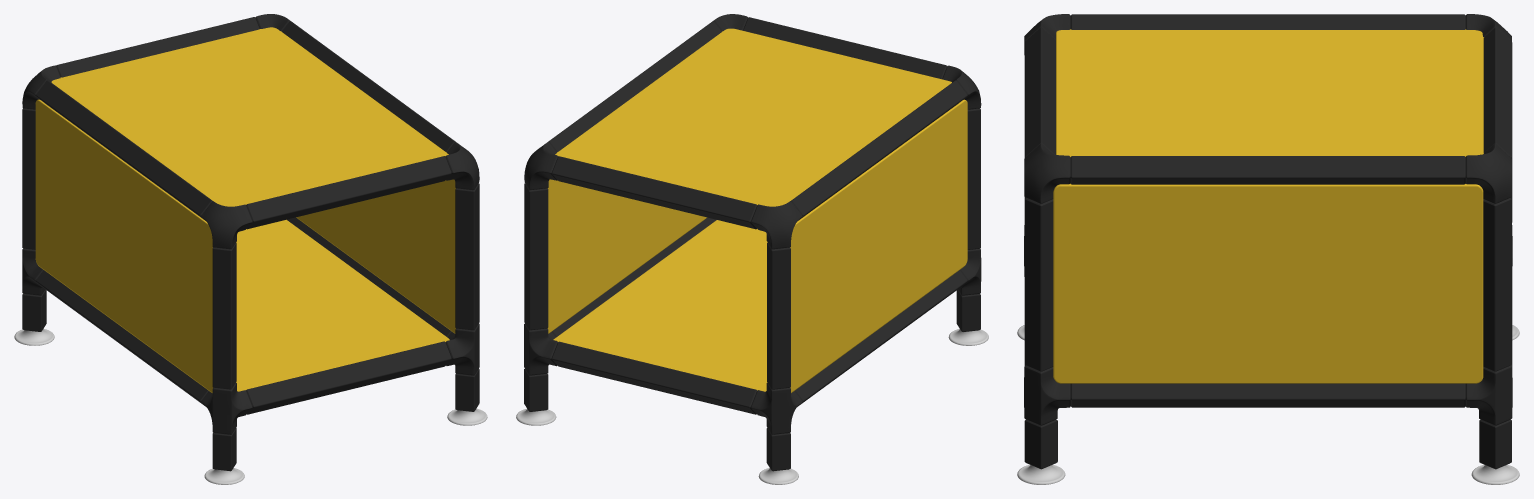
The picture shows the model from 3 angles, left to right: view 1: azimuth 30°, elevation 25°; view 2: azimuth 150°, elevation 25°; view 3: azimuth 270°, elevation 25°; orthographic projection. The views are drawn at different scales.
Visible parts, largest first — view 1: 229x329x154; view 2: 229x329x154; view 3: 229x329x154.
Boxes of the visible parts, <box> form: 229x329x154: <box>14,14,487,484</box>; 229x329x154: <box>516,14,988,484</box>; 229x329x154: <box>1017,14,1519,484</box>.
Size of the model in its own units: 0.3189 by 0.2933 by 0.4182.
